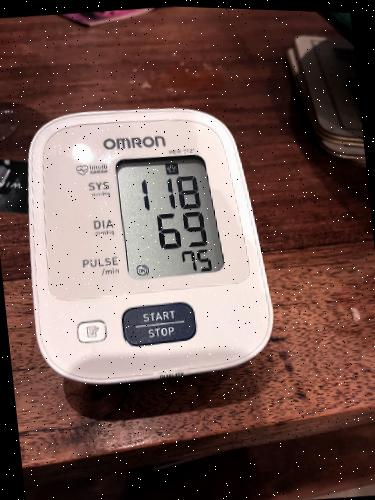bpm: (112, 148, 229, 284)
